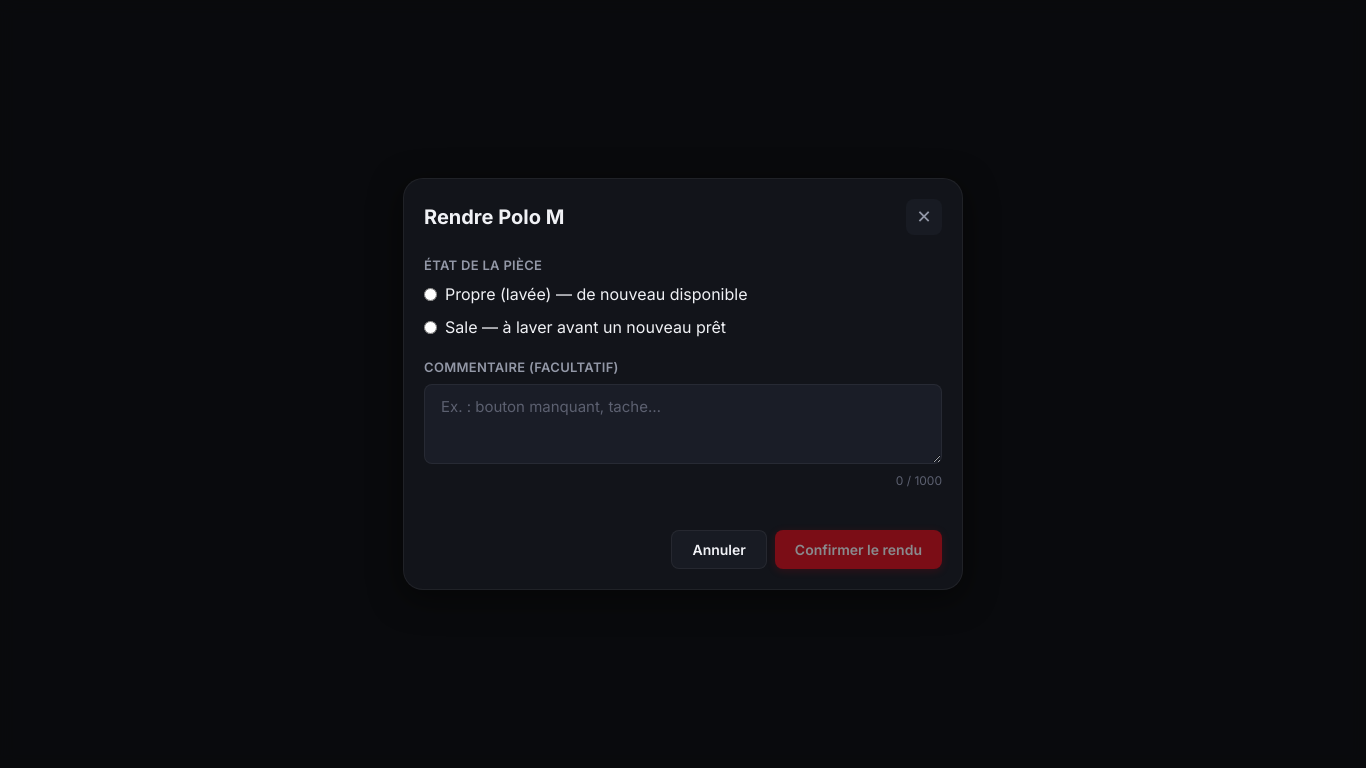
Test: ReturnUniformModal › le bouton reste inactif tant que l'état n'est pas choisi
Check: the heading "Rendre Polo M" is shown, box [424,201,564,233]
Check: the button "Confirmer le rendu" is disabled, box [775,530,942,569]
Click the radio button labelled "Propre (lavée) — de nouveau disponible". click: (430, 294)
box: [424,288,437,301]
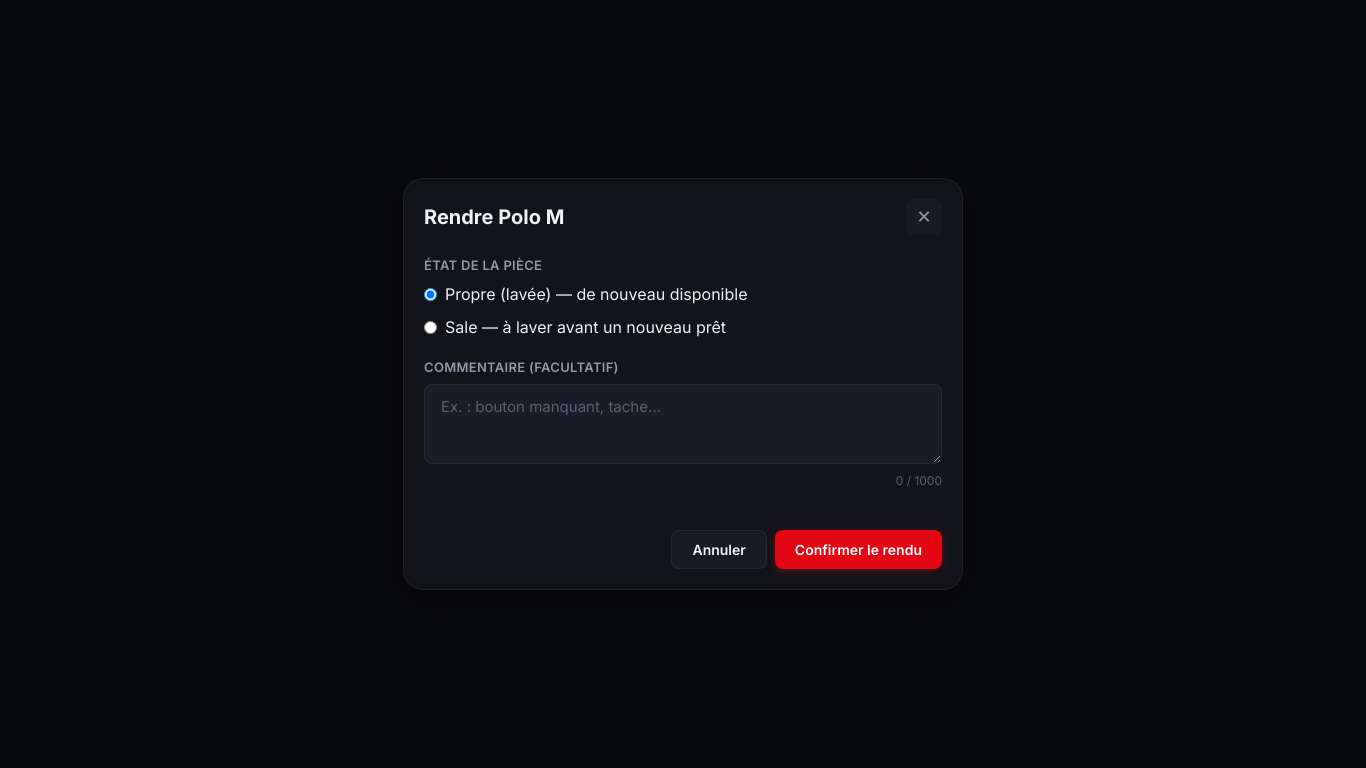
Check: the button "Confirmer le rendu" is enabled, box [775,530,942,569]
